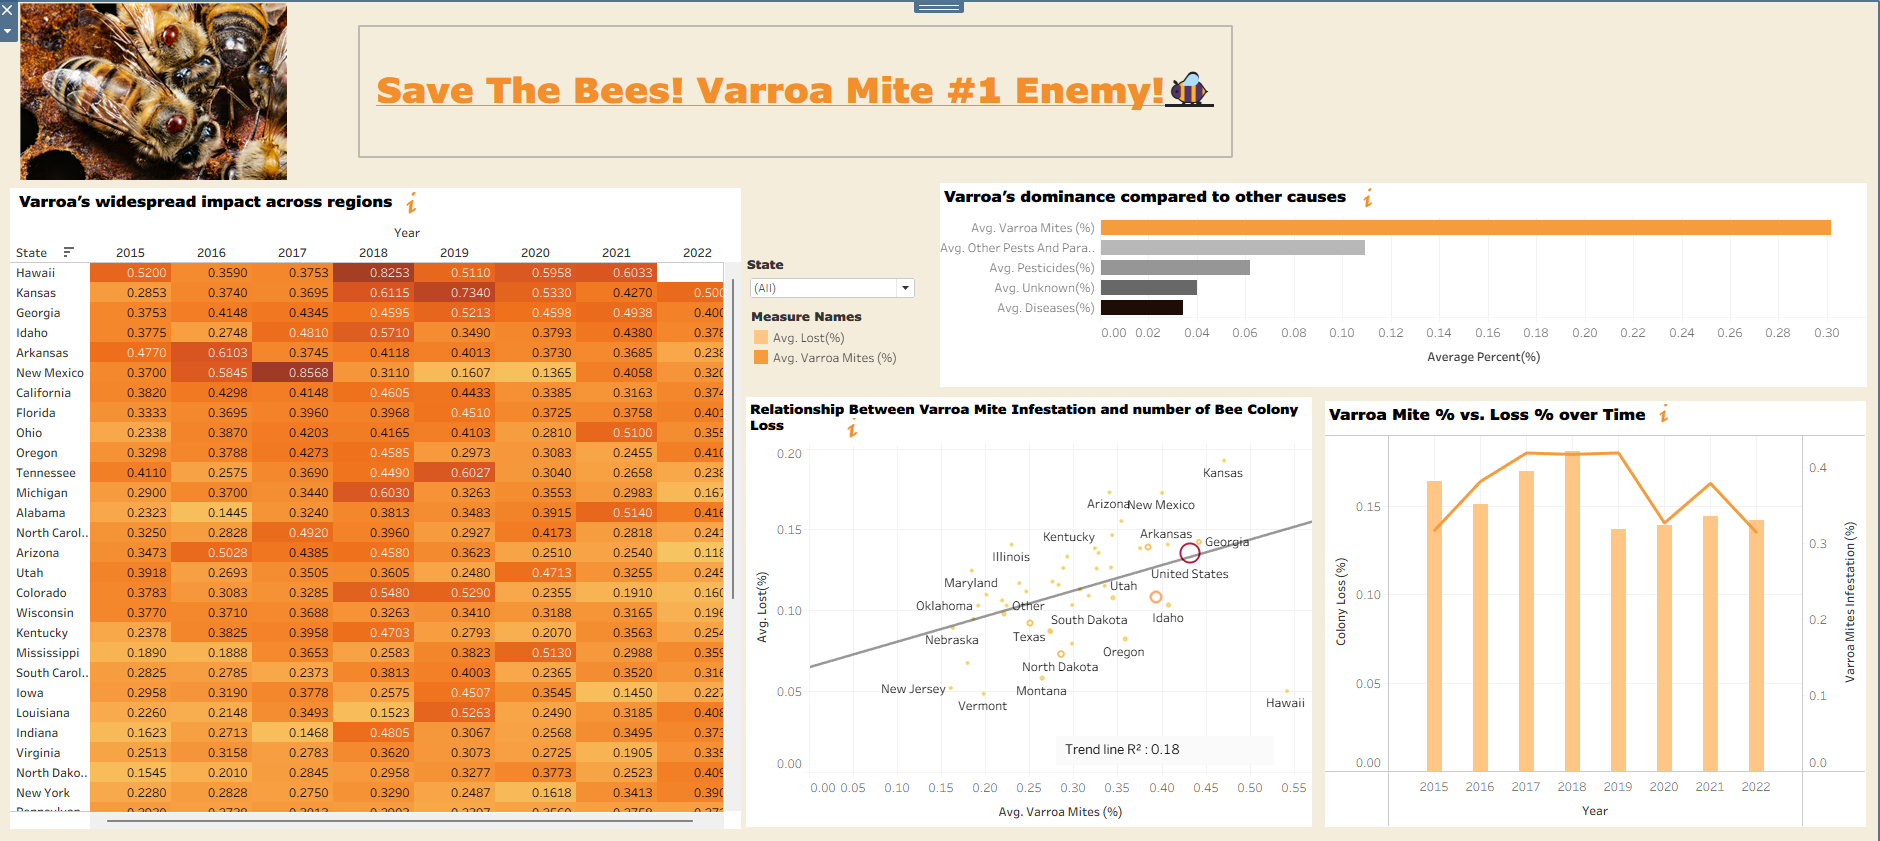

This screenshot's page, from the dashboard's own definition file:
{"tool":"tableau","page":{"name":"Dashboard 2","canvas":[1000,1000],"units":"permille","ordinal":0},"visuals":[{"type":"image","param":"Image/_20220406_on_varroadestructor_minden_00463080.jpg","box":[6.5,0,273.1,206.8]},{"type":"text","box":[4.7,9.3,521.3,202.1]},{"type":"legend","title":"Varroa’s dominance compared to other causes","param":"[federated.07ia8mi070qf021gxrg1d1k4hkjg].[:Measure Names]","box":[526,9.3,135.9,202.1]},{"type":"legend","title":" Varroa’s widespread impact across regions","param":"[federated.07ia8mi070qf021gxrg1d1k4hkjg].[avg:varroa_mites (%):qk]","box":[661.9,9.3,129.4,202.1]},{"type":"legend","title":"Relationship Between Varroa Mite Infestation and number of Bee Colony Loss","param":"[federated.07ia8mi070qf021gxrg1d1k4hkjg].[sum:num_colonies:qk]","box":[791.4,9.3,101.7,202.1]},{"type":"dashboard-object","box":[893,9.3,102.2,202.1]},{"type":"worksheet","title":"Varroa’s dominance compared to other causes","mark":"Automatic","box":[4.7,211.5,990.5,227.8]},{"type":"worksheet","title":" Varroa’s widespread impact across regions","mark":"Square","rows":["state"],"cols":["year"],"box":[4.7,439.2,313.2,551.4]},{"type":"worksheet","title":"Relationship Between Varroa Mite Infestation and number of Bee Colony Loss","mark":"Automatic","rows":["Lost(%)"],"cols":["varroa_mites (%)"],"box":[318,439.2,319.4,551.4]},{"type":"worksheet","title":"Varroa Mite % vs. Loss % over Time","mark":"Automatic","rows":["varroa_mites (%)","Lost(%)"],"cols":["year"],"box":[637.4,439.2,357.9,551.4]}]}

Visuals, with their boxes on the dashboard's canvas, which has no fixed pixel size, in thousandths of its width and height (x1, y1, x2, y2). These are canvas units, not pixel positions in the 1880x841 screenshot, which may show the page scaled, cropped or inside an application window:
image: box=[6, 0, 280, 207]
text: box=[5, 9, 526, 211]
"Varroa’s dominance compared to other causes" legend: box=[526, 9, 662, 211]
" Varroa’s widespread impact across regions" legend: box=[662, 9, 791, 211]
"Relationship Between Varroa Mite Infestation and number of Bee Colony Loss" legend: box=[791, 9, 893, 211]
dashboard-object: box=[893, 9, 995, 211]
"Varroa’s dominance compared to other causes" worksheet: box=[5, 212, 995, 439]
" Varroa’s widespread impact across regions" worksheet (Square marks): box=[5, 439, 318, 991]
"Relationship Between Varroa Mite Infestation and number of Bee Colony Loss" worksheet: box=[318, 439, 637, 991]
"Varroa Mite % vs. Loss % over Time" worksheet: box=[637, 439, 995, 991]
